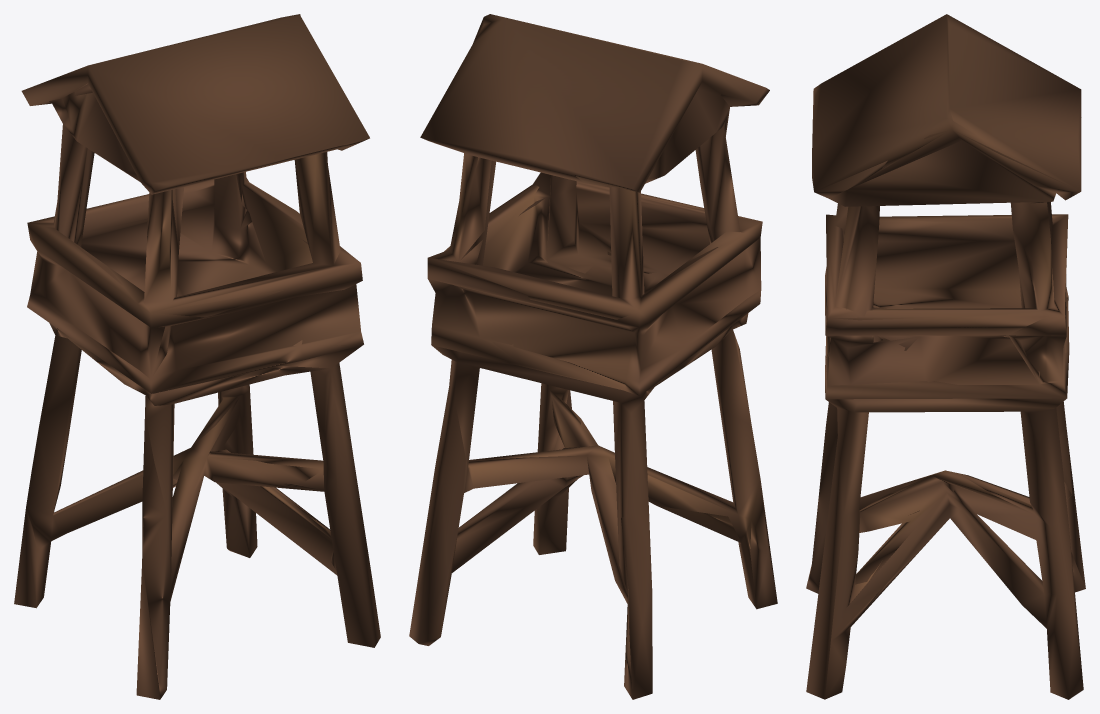
File: gen3d-wooden-watchtower-lod1.glb
3 renders of one model, left to right at view 1: azimuth 30°, elevation 25°; view 2: azimuth 150°, elevation 25°; view 3: azimuth 270°, elevation 25°, orthographic.
Visible parts, largest first — view 1: part_0; view 2: part_0; view 3: part_0.
Part boxes in pixels (box(x1,y1,x2,y2)): part_0: box(14, 14, 380, 699); part_0: box(409, 14, 777, 699); part_0: box(806, 14, 1085, 699).
Size of the model in its own units: 0.4375 by 0.9988 by 0.4399.
